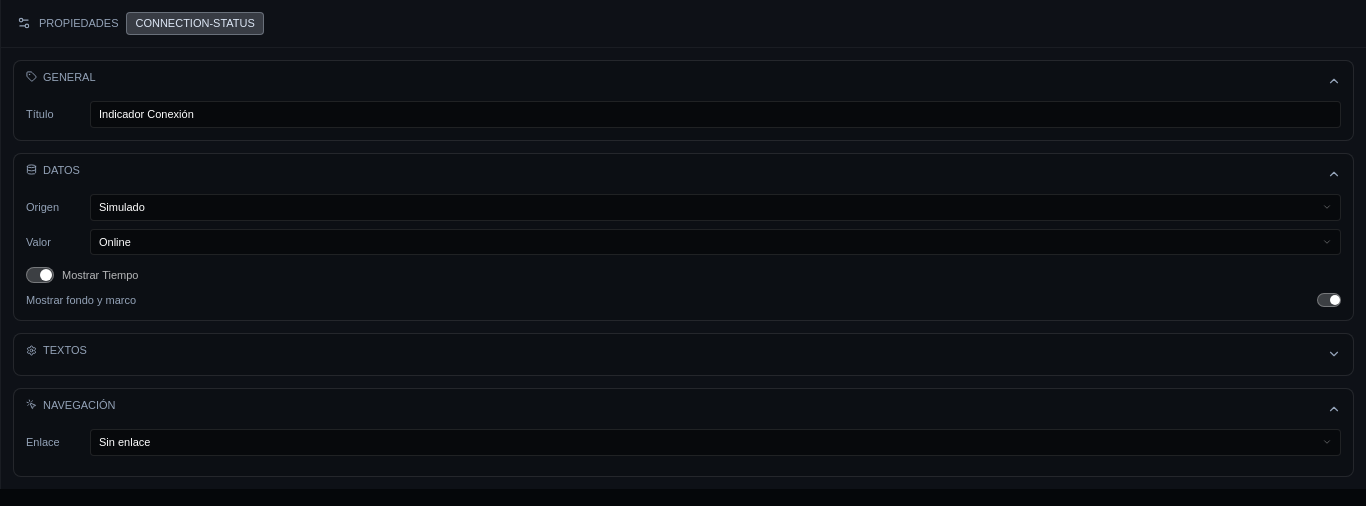
PropertyDock Node-RED binding › updates connection-status simulated value from the data section
Click the button "Online".
click(115, 242)  # box top-left (90, 228), bottom-right (1341, 255)
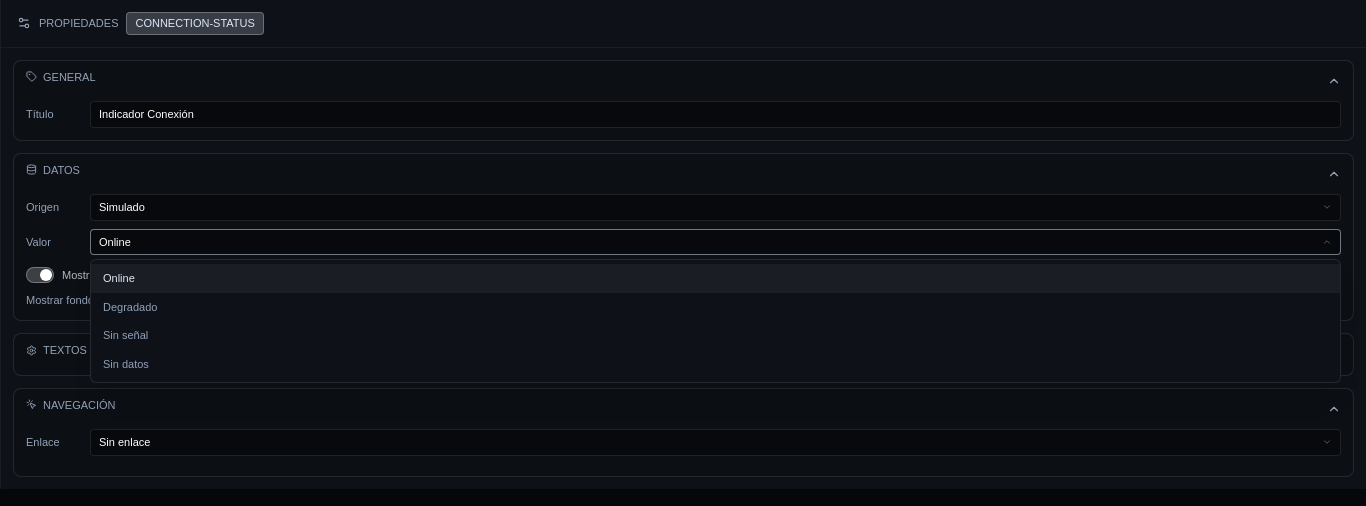
Click the button "Degradado".
click(130, 306)  # box top-left (91, 292), bottom-right (1340, 321)
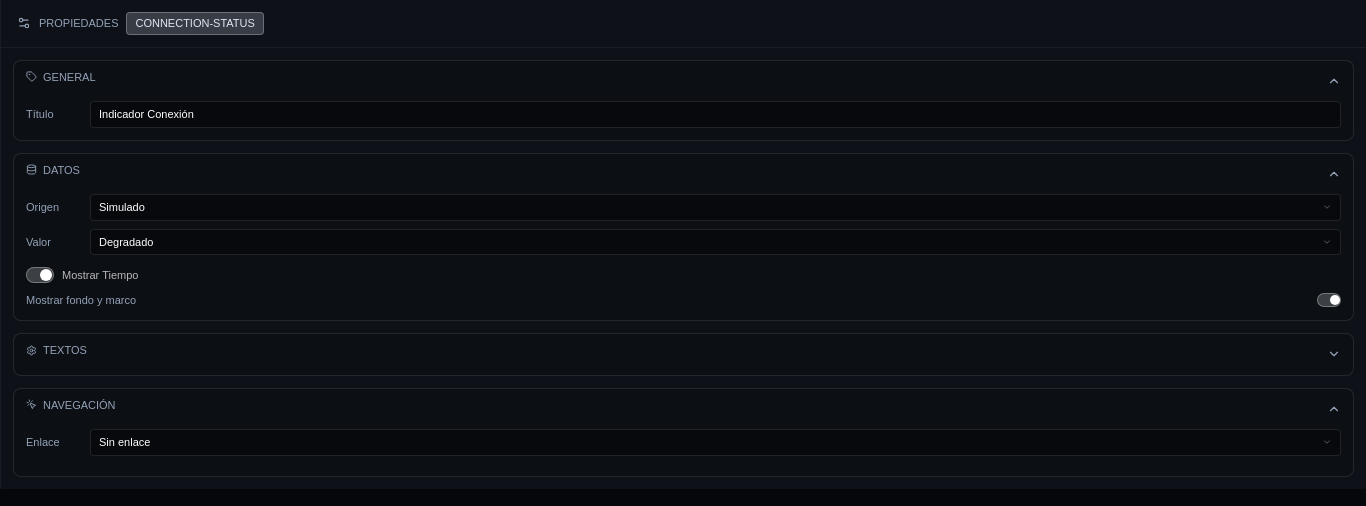
Click the button "Simulado".
click(122, 207)  # box top-left (90, 194), bottom-right (1341, 220)
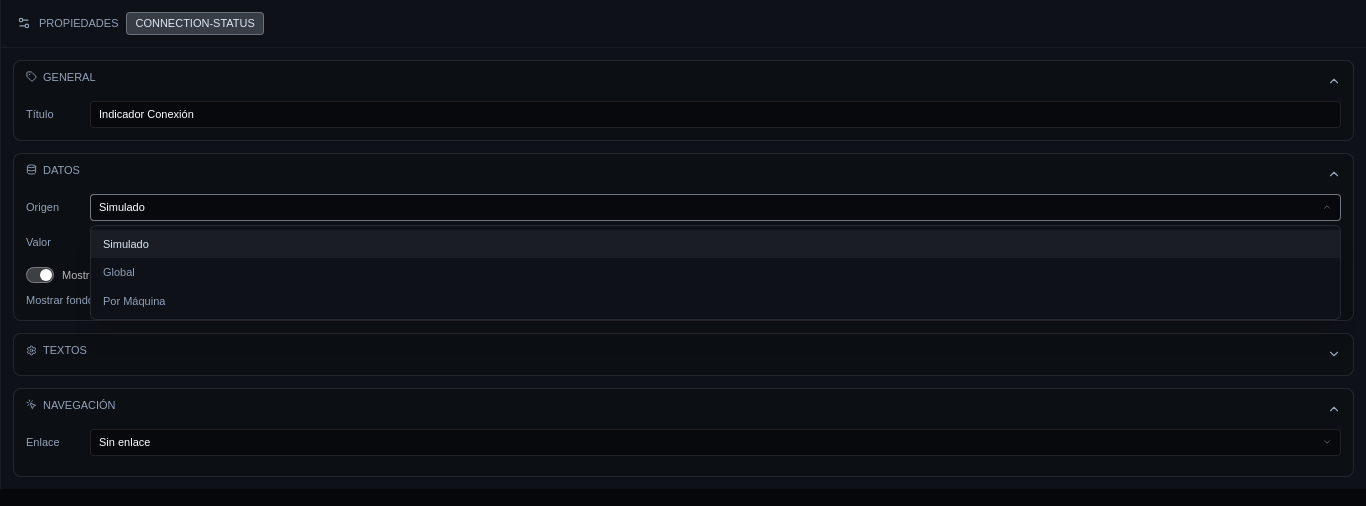
Click the button "Por Máquina".
click(134, 300)  # box top-left (91, 286), bottom-right (1340, 315)
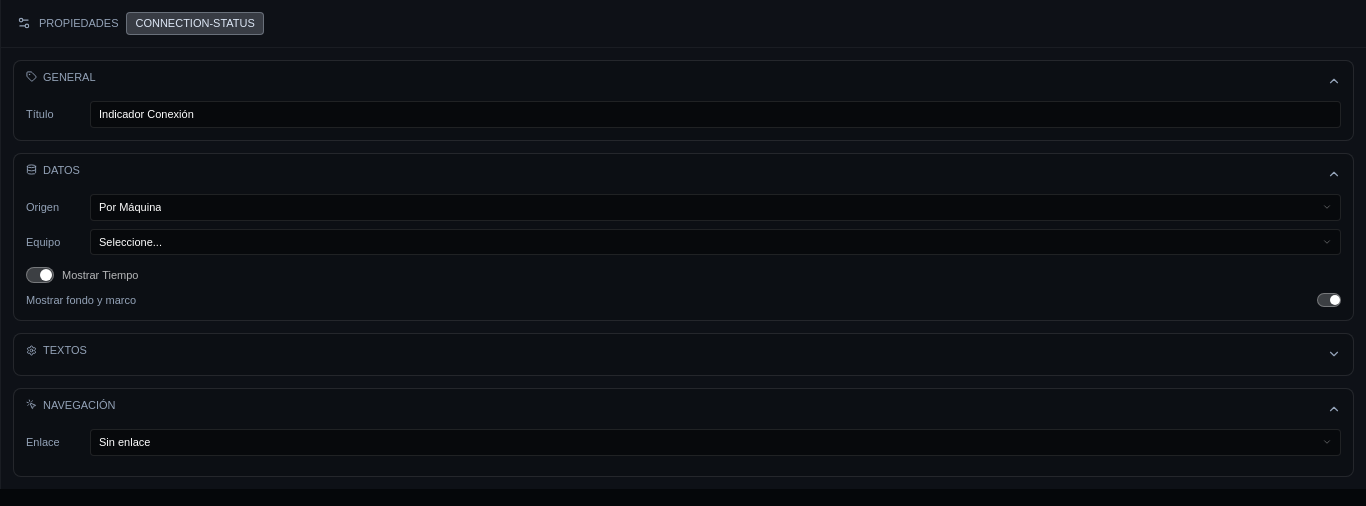
Now the text "Equipo" is shown, box top-left (26, 236), bottom-right (60, 248)
